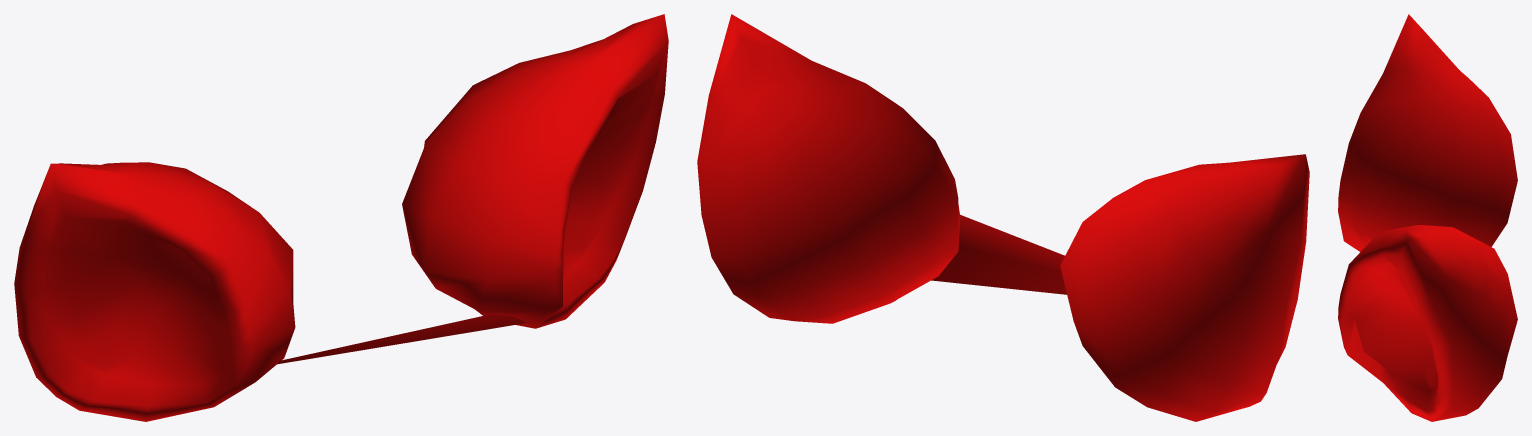
File: HeadAcc_KittyEars.glb
The picture shows the model from 3 angles, left to right: view 1: azimuth 30°, elevation 25°; view 2: azimuth 150°, elevation 25°; view 3: azimuth 270°, elevation 25°; orthographic projection. The views are drawn at different scales.
Visible parts, largest first — view 1: HeadAcc_KittyEars; view 2: HeadAcc_KittyEars; view 3: HeadAcc_KittyEars.
Part boxes in pixels (x1,y1,x2,y2): HeadAcc_KittyEars: [14, 14, 668, 421]; HeadAcc_KittyEars: [697, 14, 1309, 421]; HeadAcc_KittyEars: [1338, 14, 1517, 421].
Bounding box in the file's own units: 0.2268 × 0.0971 × 0.0748.
